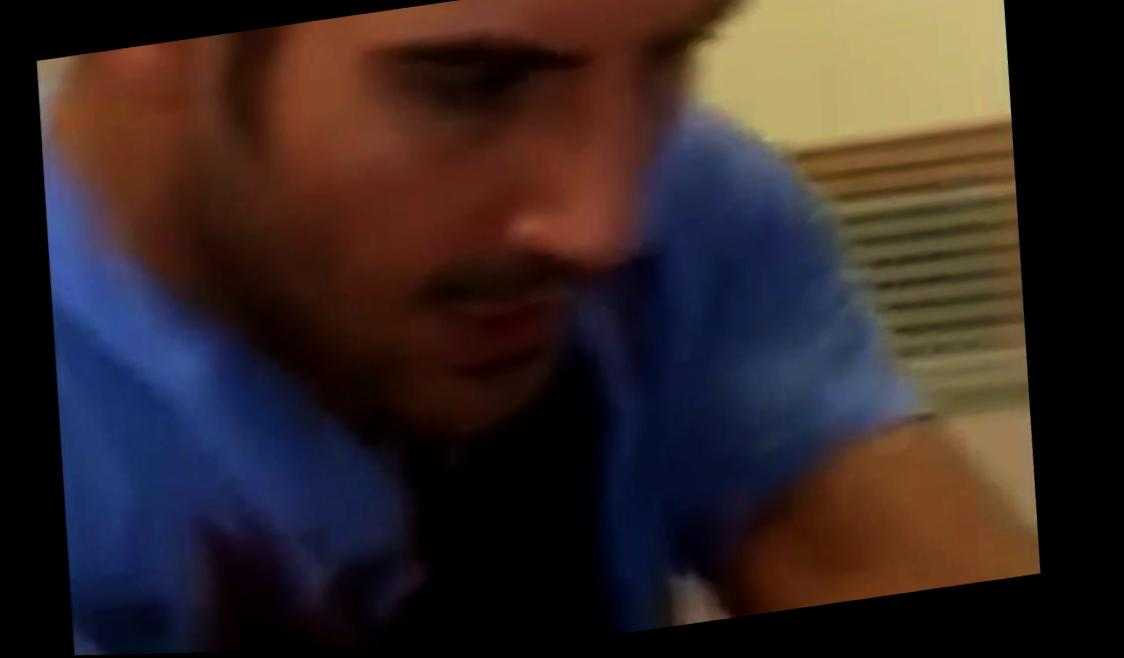Fire: (379, 354, 611, 651)
